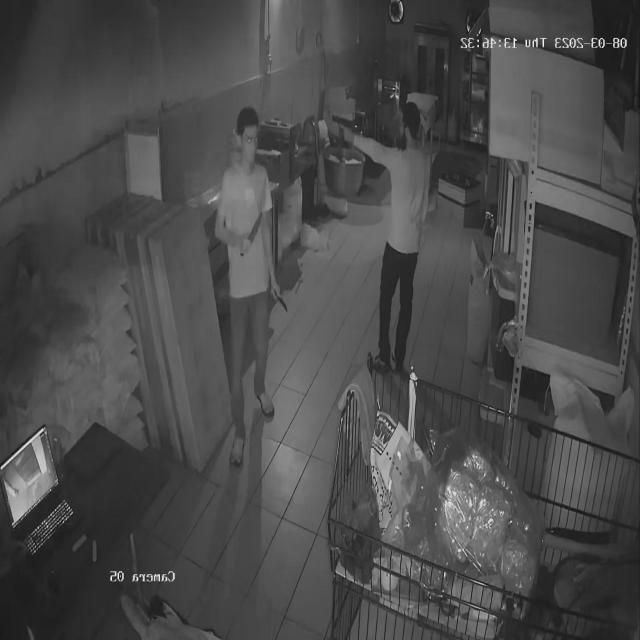Knife: (240, 208, 272, 252), (274, 291, 293, 318)
